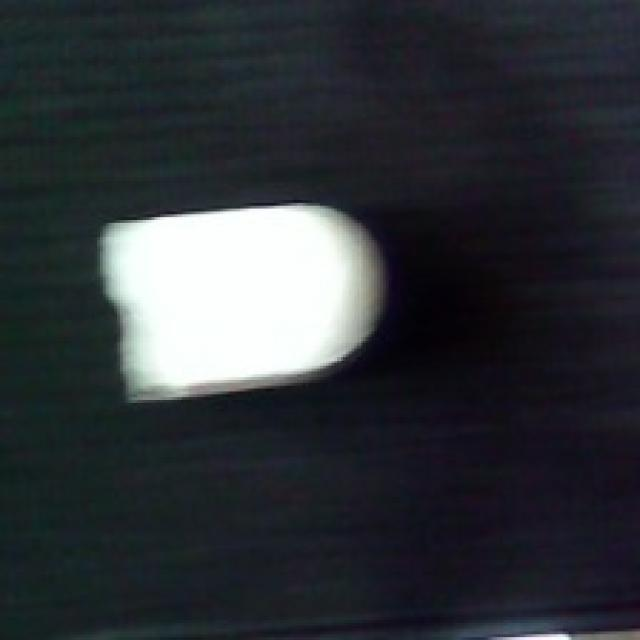defected: (94, 194, 394, 403)
